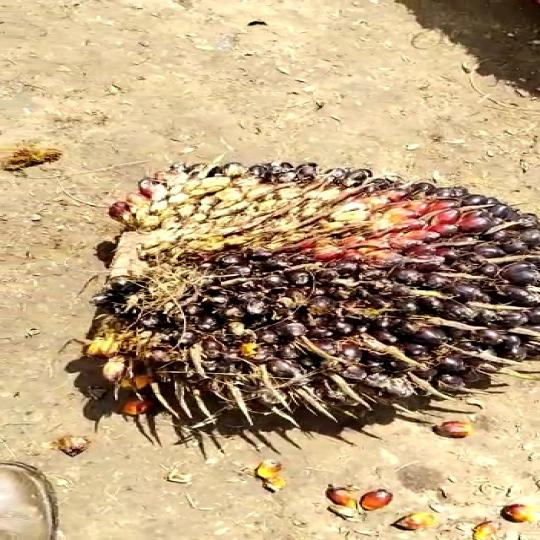mentah: (68, 149, 540, 435)
